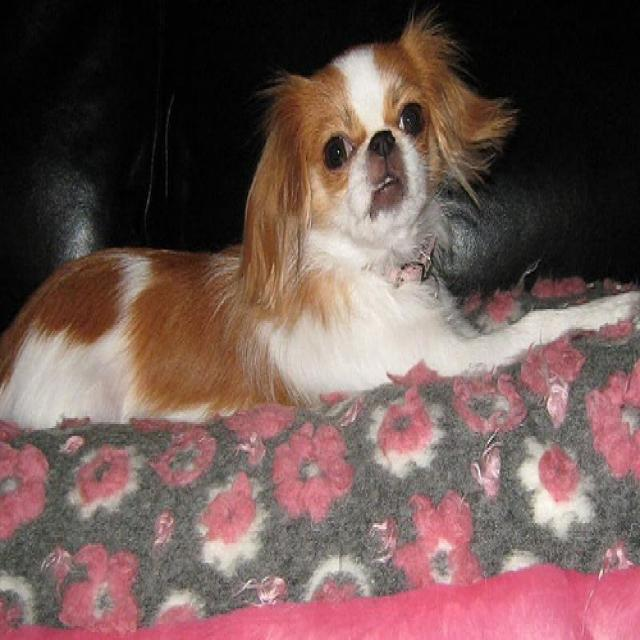dog-japanese_chin: (1, 2, 637, 444)
